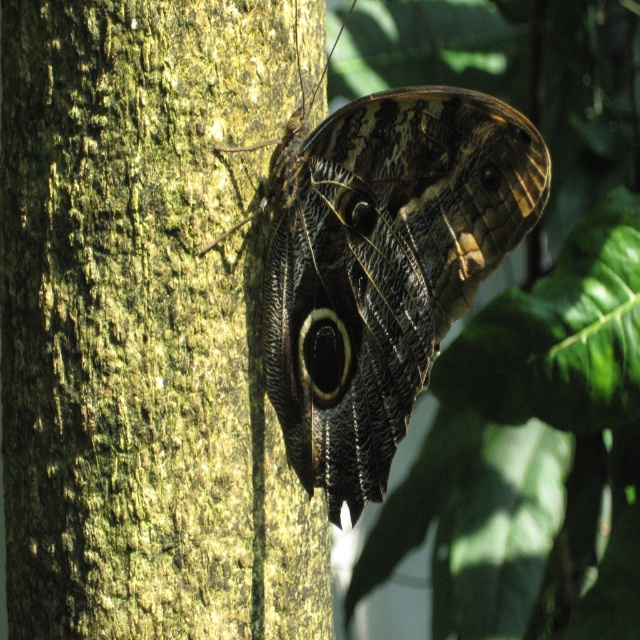Butterfly: (213, 45, 561, 512)
